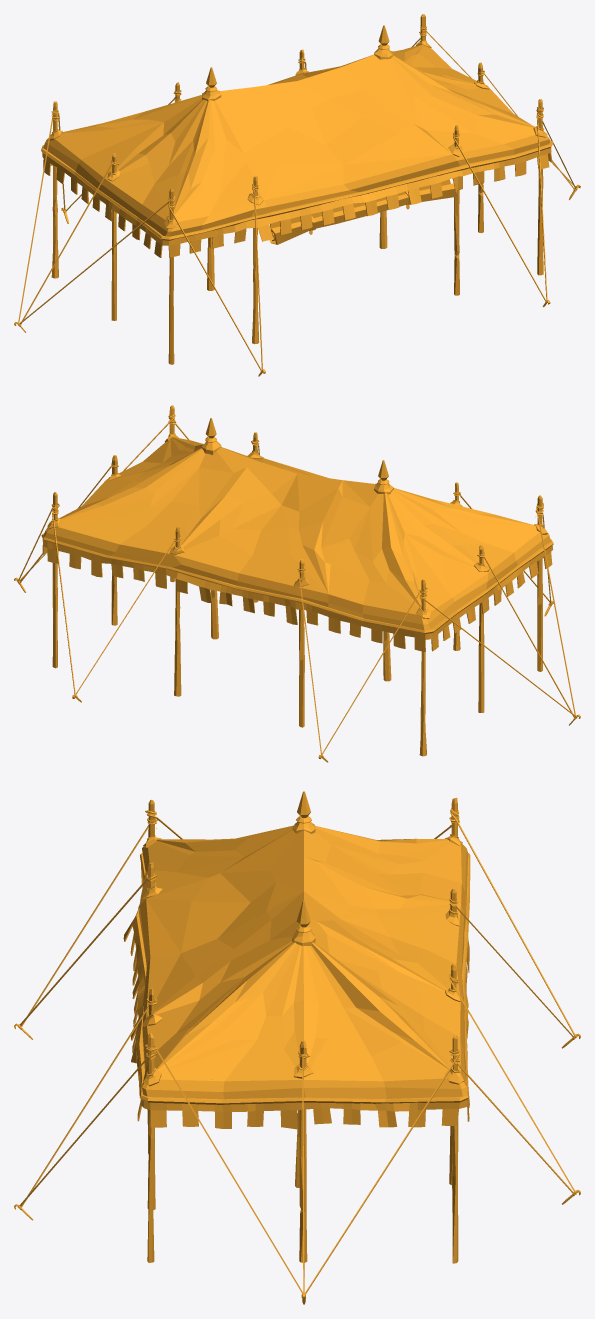
Rendered from SM_Tent_Royal_Plain_Construct_B_Roof_Fantasy.fbx.
3 views of the same model, one above another, from view 1: azimuth 30°, elevation 25°; view 2: azimuth 150°, elevation 25°; view 3: azimuth 270°, elevation 25° (orthographic). The views are drawn at different scales.
Parts seen in each view (by area): view 1: tent-royal-plain-construct-b-roof-fantasy; view 2: tent-royal-plain-construct-b-roof-fantasy; view 3: tent-royal-plain-construct-b-roof-fantasy.
Part boxes in pixels (left/top/right/bottom): tent-royal-plain-construct-b-roof-fantasy: left=14, top=14, right=580, bottom=376; tent-royal-plain-construct-b-roof-fantasy: left=14, top=405, right=580, bottom=762; tent-royal-plain-construct-b-roof-fantasy: left=14, top=791, right=580, bottom=1304.
Size of the model in its own units: 13.65 by 5.31 by 9.11.
